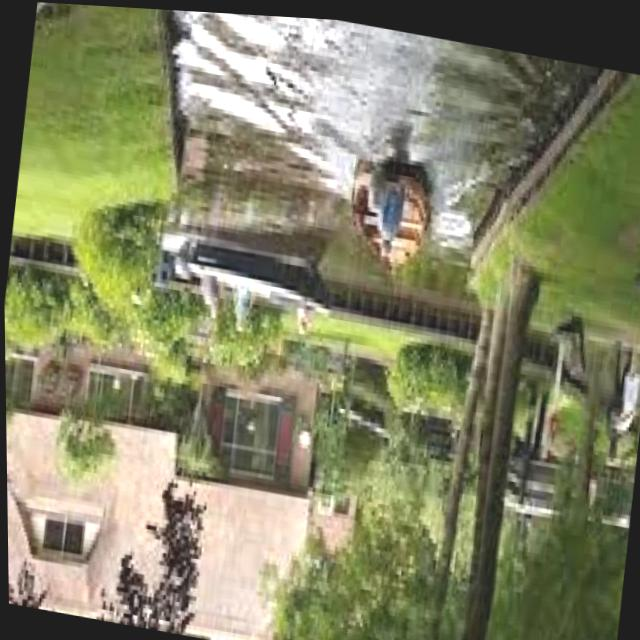ship2: (174, 237, 333, 330), (352, 152, 431, 273)
